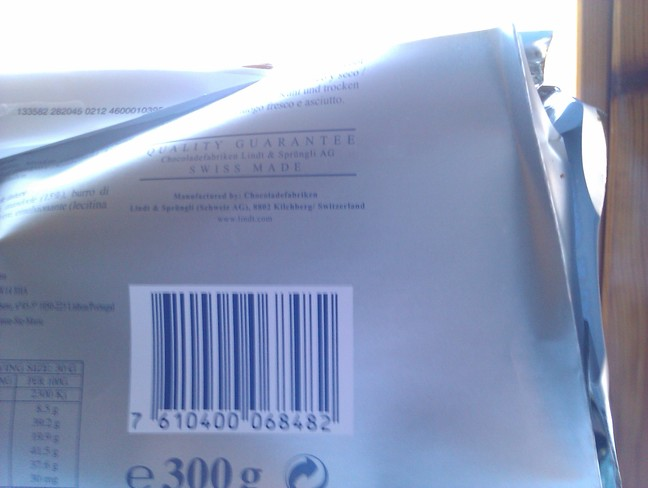detection: (131, 283, 351, 437)
